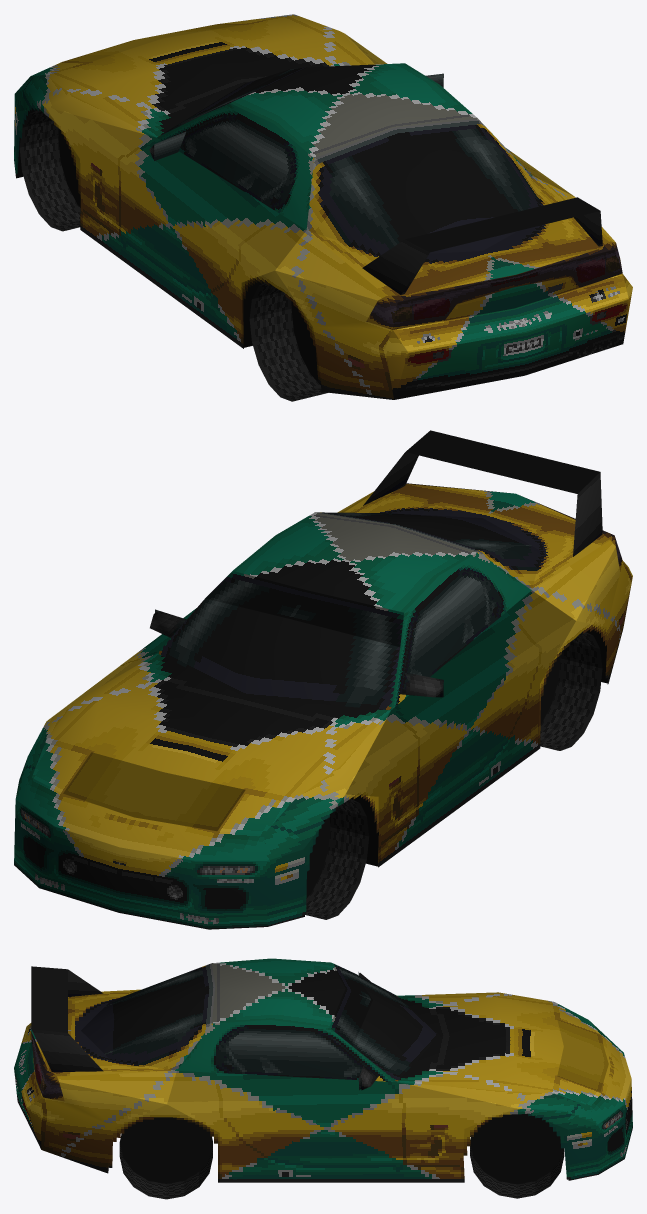
The model's file is GT_SIMULATION__AFO7R_DAY.glb.
3 renders of one model, top to bottom at view 1: azimuth 30°, elevation 25°; view 2: azimuth 150°, elevation 25°; view 3: azimuth 270°, elevation 25°, orthographic. The views are drawn at different scales.
Parts seen in each view (by area): view 1: Native body LOD0, Native wheel 2, Native wheel 0; view 2: Native body LOD0, Native wheel 0, Native wheel 2; view 3: Native body LOD0, Native wheel 1, Native wheel 3.
Boxes of the visible parts, <box> form: Native body LOD0: <box>14,14,632,399</box>; Native wheel 2: <box>249,283,328,401</box>; Native wheel 0: <box>19,109,80,231</box>; Native body LOD0: <box>14,430,632,929</box>; Native wheel 0: <box>306,799,369,919</box>; Native wheel 2: <box>540,631,602,750</box>; Native body LOD0: <box>14,958,632,1182</box>; Native wheel 1: <box>470,1113,564,1198</box>; Native wheel 3: <box>119,1117,212,1199</box>.
Bounding box in the file's own units: 1.82 × 1.23 × 4.3.
Materials: 13 (12 with a texture image).
